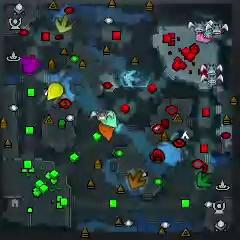p2: (99, 109, 117, 128)
p3: (19, 56, 39, 75)
p4: (48, 83, 64, 101)
p5: (97, 123, 115, 141)
x1: (195, 31, 211, 44)
x2: (54, 16, 72, 33)
x3: (125, 69, 140, 88)
x4: (195, 171, 212, 188)
x5: (128, 171, 145, 191)
